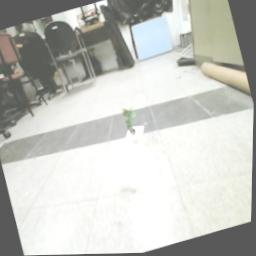herb: (119, 106, 142, 137)
